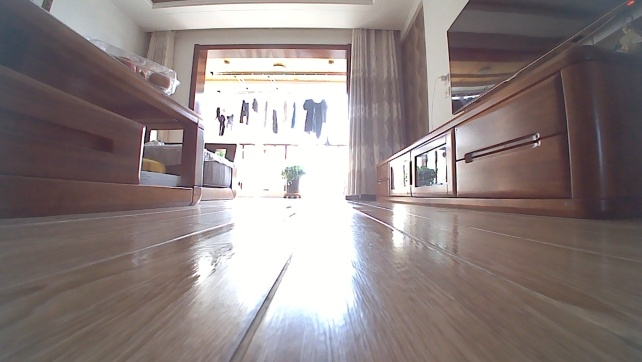TV_stand: (371, 40, 641, 220)
sofa1: (140, 132, 240, 201)
tea_table1: (0, 0, 205, 220)
